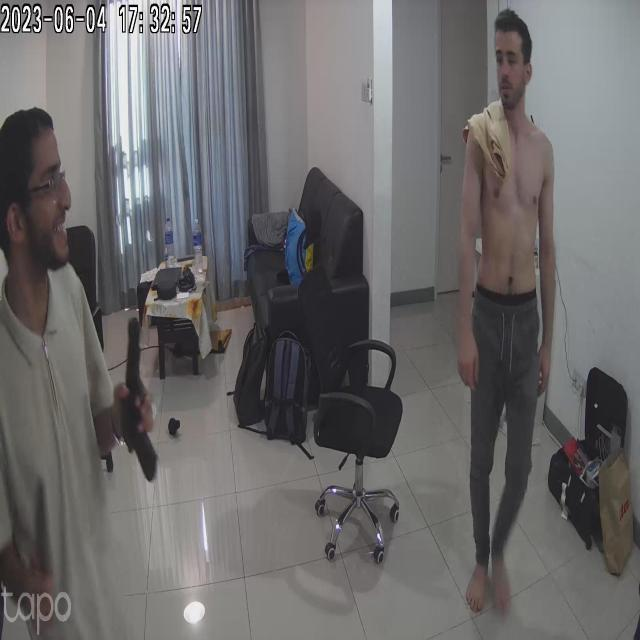Gun: (105, 308, 193, 477)
Knife: (18, 466, 80, 592)
